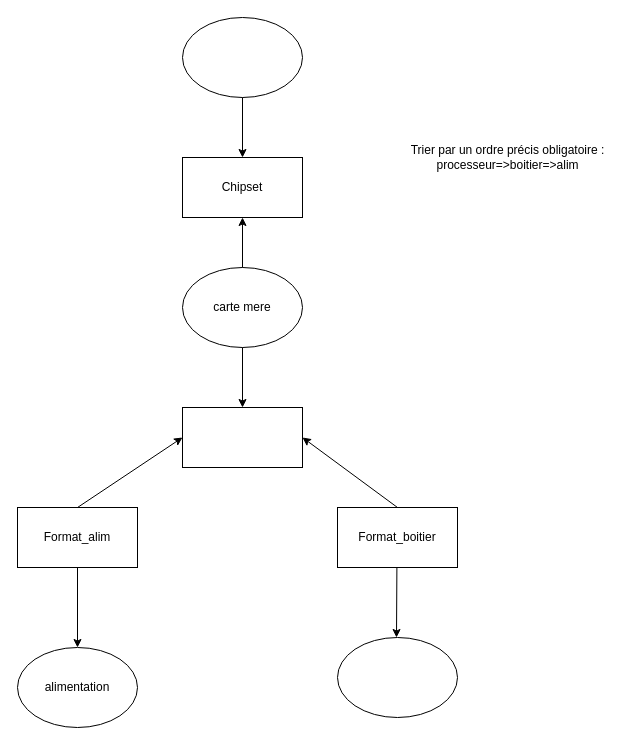
Image size: 635x745. Some labels were removed from this diagram. Here are the shapes that lost their labels. From the top down, the box of each, then its label:
(182, 16, 302, 98): Processeur
(182, 406, 302, 468): Format_cm
(336, 636, 458, 718): boitier
